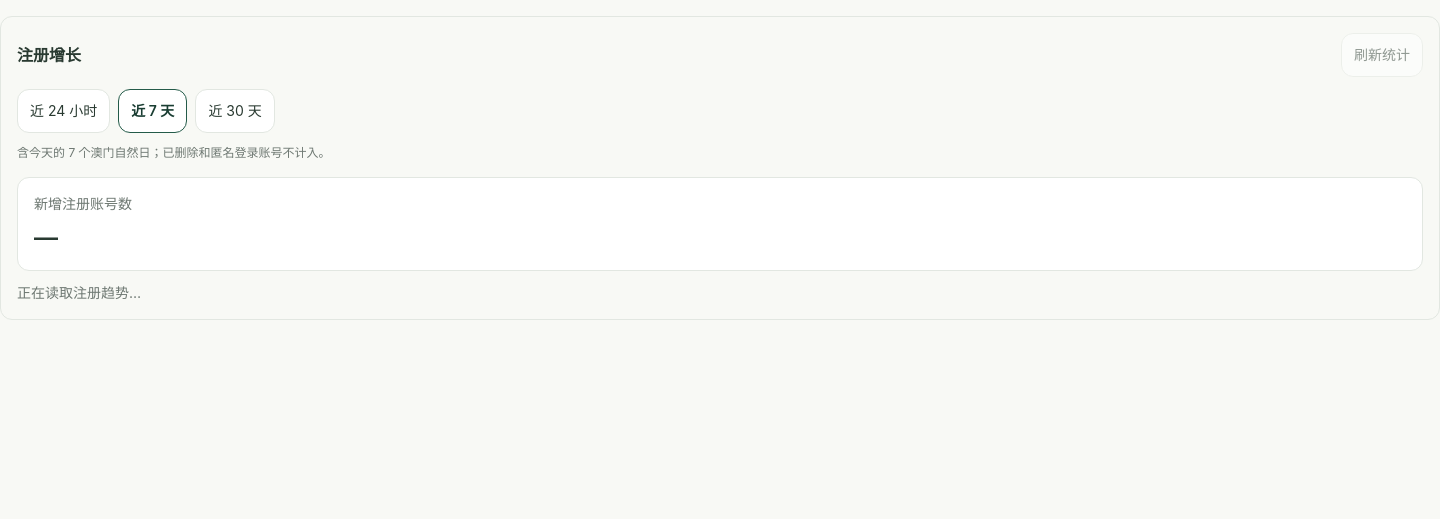
Test: admin growth and usage panels › switches registration periods and ignores an old response
Click the button "近 24 小时" at (64, 111), box [17, 89, 110, 133]
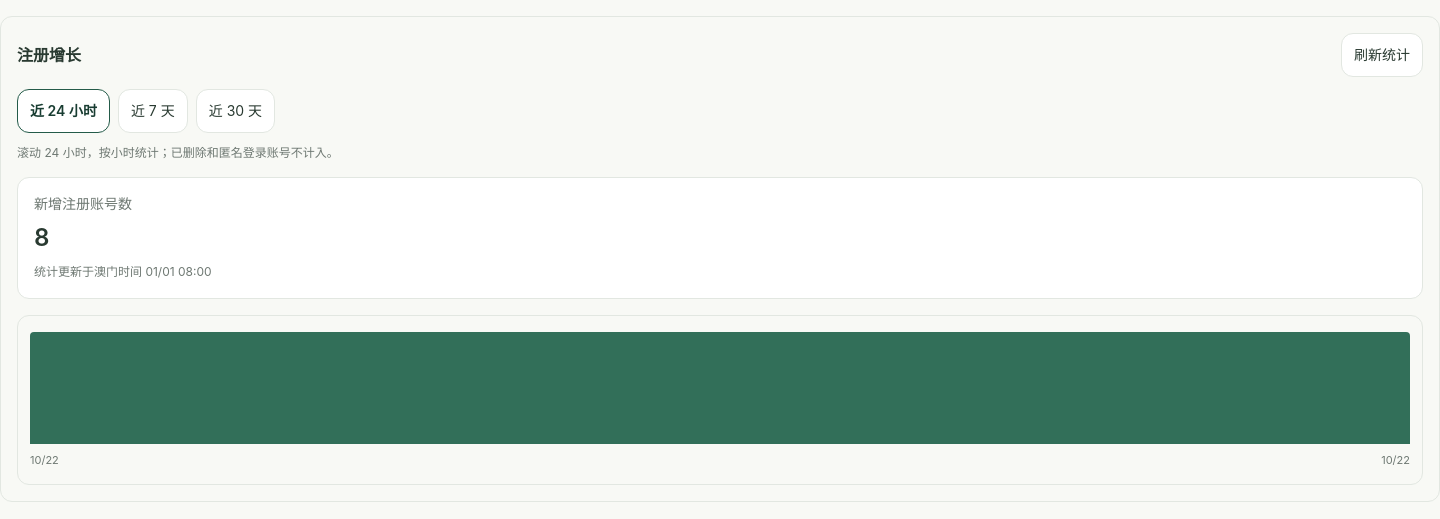
Expected: the text "8" is shown, [34, 223, 50, 252]
Expected: the text "滚动 24 小时" is shown, [17, 145, 159, 160]
